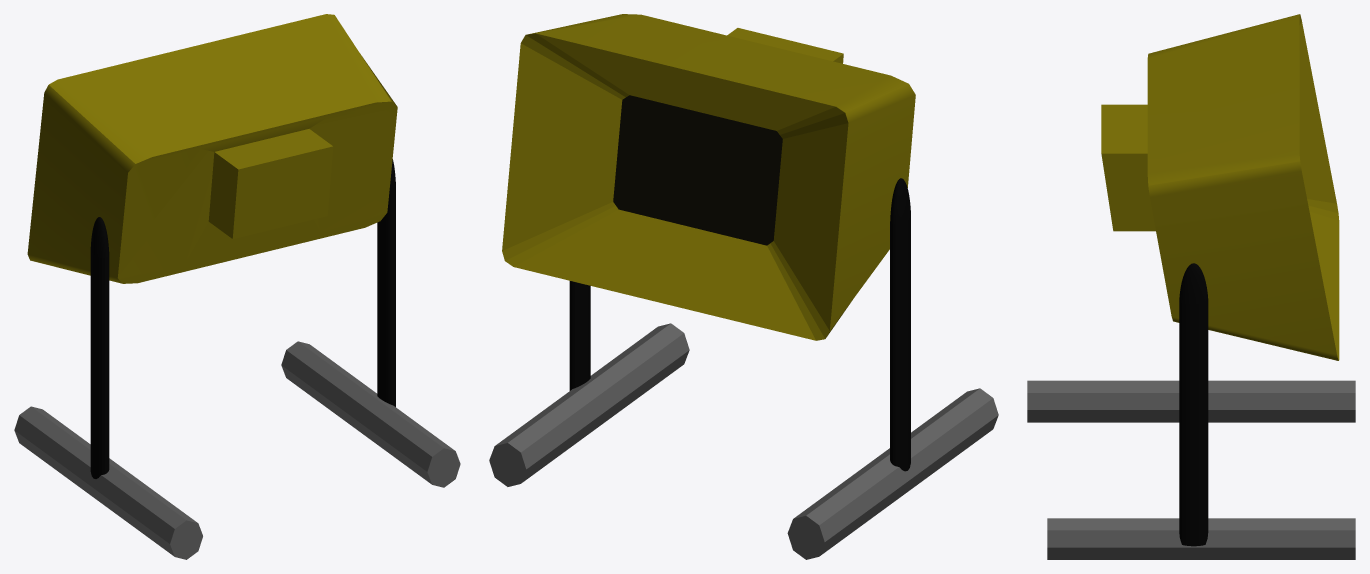
File: Luz de piso.fbx
The picture shows the model from 3 angles, left to right: view 1: azimuth 30°, elevation 25°; view 2: azimuth 150°, elevation 25°; view 3: azimuth 270°, elevation 25°; orthographic projection. The views are drawn at different scales.
Parts seen in each view (by area): view 1: pCube1, pCylinder1, pCylinder2, pSphere1, pSphere2; view 2: pCube1, pCylinder1, pCylinder2, pSphere1, pSphere2; view 3: pCube1, pCylinder1, pCylinder2, pSphere2.
Part boxes in pixels (bbox=[...]): pCube1: bbox=[27, 14, 397, 283]; pCylinder1: bbox=[14, 406, 202, 559]; pCylinder2: bbox=[281, 341, 460, 487]; pSphere1: bbox=[90, 217, 109, 478]; pSphere2: bbox=[377, 159, 395, 406]; pCube1: bbox=[502, 14, 915, 340]; pCylinder1: bbox=[787, 388, 998, 559]; pCylinder2: bbox=[489, 323, 689, 486]; pSphere1: bbox=[890, 178, 910, 471]; pSphere2: bbox=[569, 281, 590, 390]; pCube1: bbox=[1101, 14, 1339, 360]; pCylinder1: bbox=[1027, 380, 1355, 422]; pCylinder2: bbox=[1047, 518, 1355, 559]; pSphere2: bbox=[1179, 263, 1208, 546].
Bounding box in the file's own units: 0.3629 × 0.4432 × 0.324.
